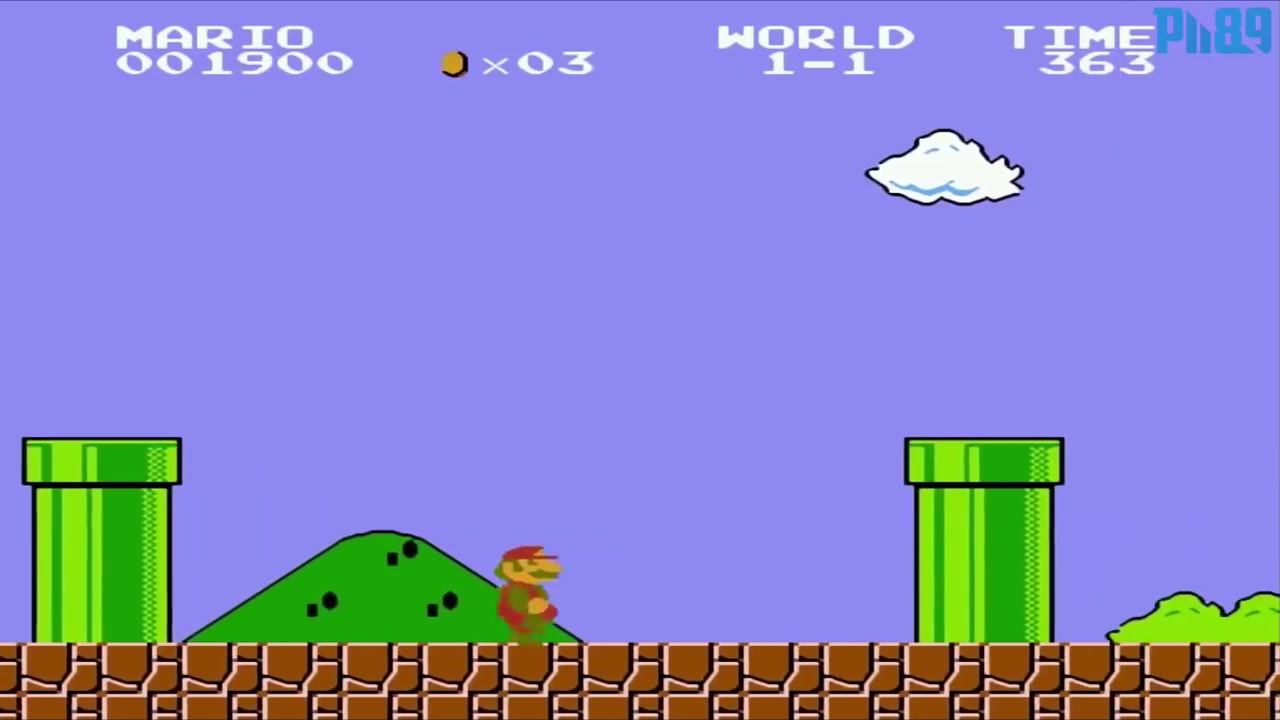mario: (469, 534, 567, 643)
